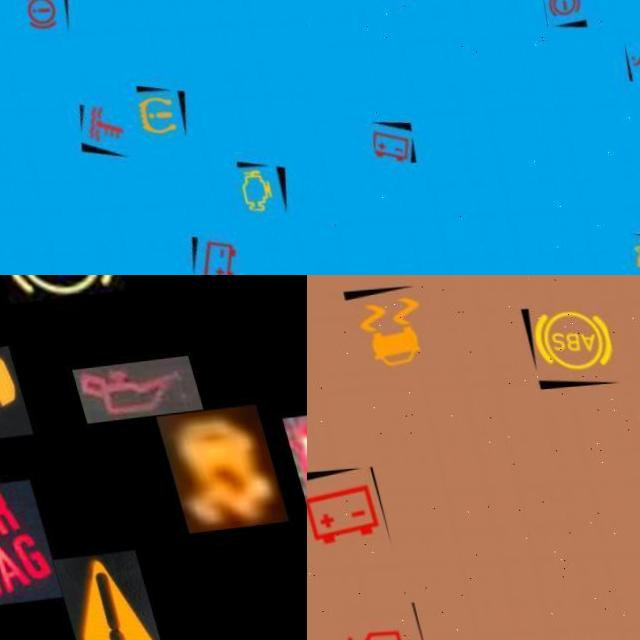Central Warning lamp: (30, 552, 142, 640)
